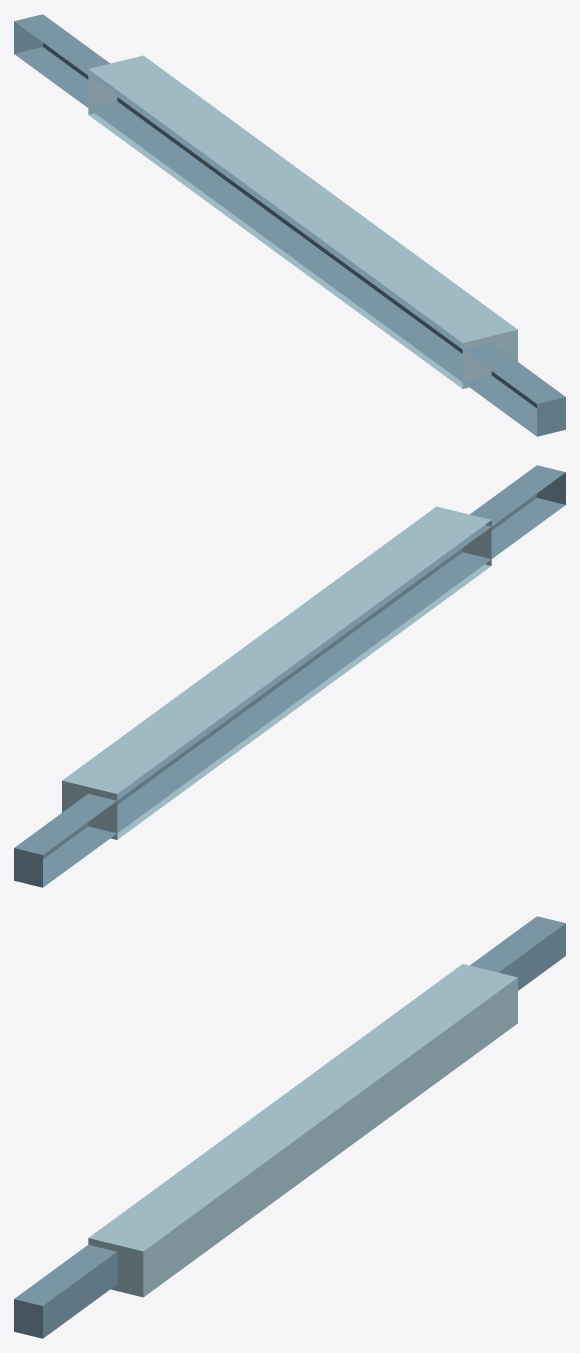
File: Bathroom2_lighting.fbx
The picture shows the model from 3 angles, top to bottom: view 1: azimuth 30°, elevation 25°; view 2: azimuth 150°, elevation 25°; view 3: azimuth 330°, elevation 25°; orthographic projection.
Parts seen in each view (by area): view 1: Bathroom2_lighting; view 2: Bathroom2_lighting; view 3: Bathroom2_lighting.
Boxes of the visible parts, x1,y1,x2,y2 form: Bathroom2_lighting: (14,14,565,436); Bathroom2_lighting: (14,465,565,887); Bathroom2_lighting: (14,916,565,1338).
Size of the model in its own units: 11.59 by 9.23 by 190.
